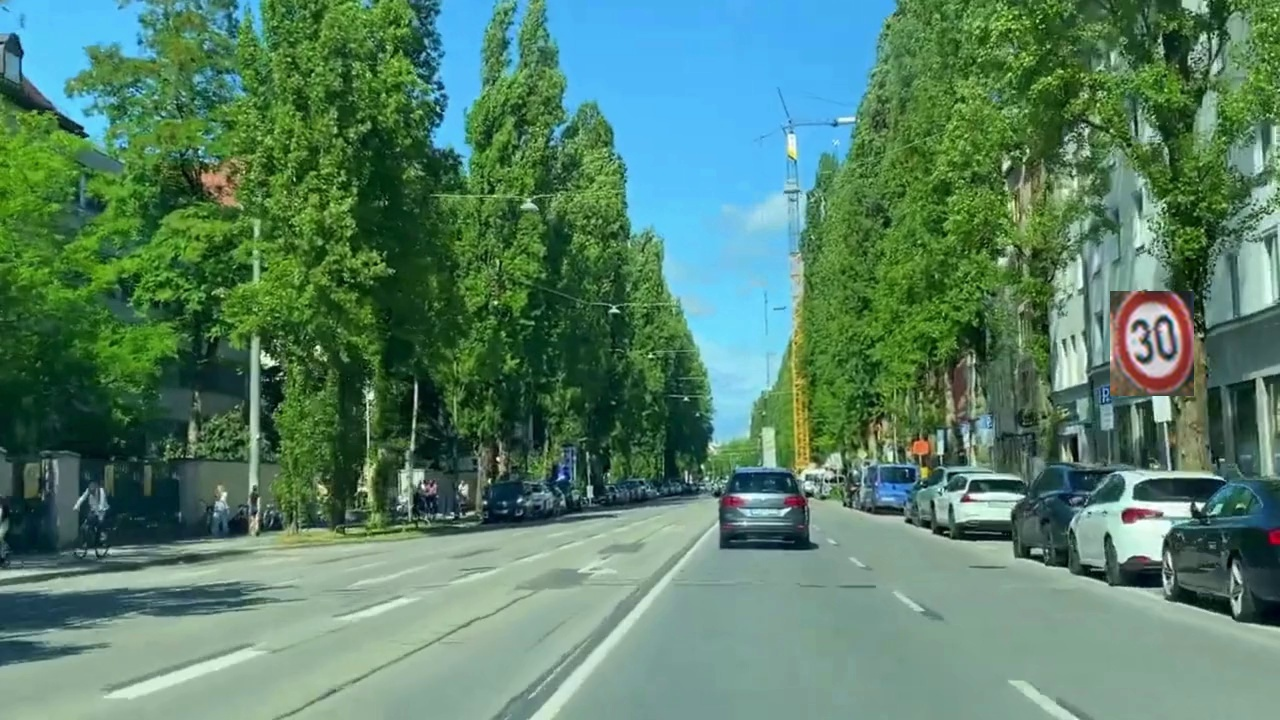Speed 30: (1110, 291, 1194, 396)
